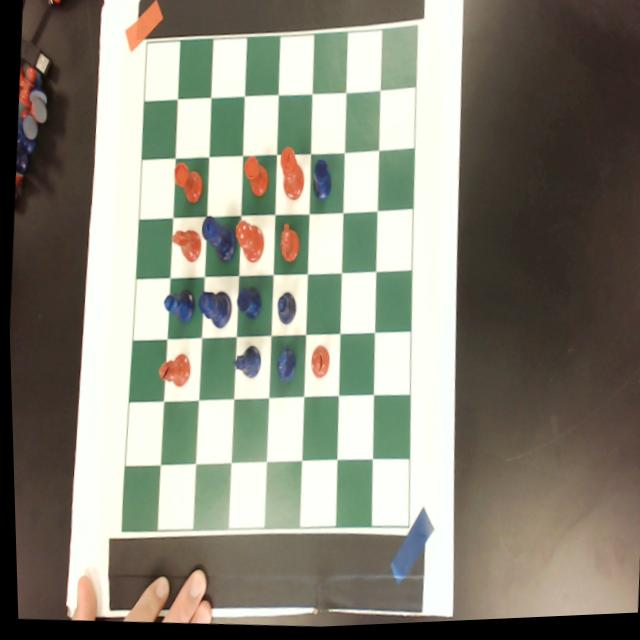B: (157, 286, 193, 327), (270, 290, 295, 328)
K: (197, 215, 235, 268)
N: (227, 343, 259, 382), (271, 343, 295, 386)
Q: (193, 289, 231, 333)
R: (308, 157, 332, 205), (231, 283, 260, 322)
b: (152, 349, 190, 390), (305, 345, 328, 382)
k: (274, 146, 305, 205)
n: (166, 223, 202, 270), (274, 221, 300, 267)
q: (230, 218, 264, 265)
r: (168, 160, 203, 207), (238, 155, 268, 200)
